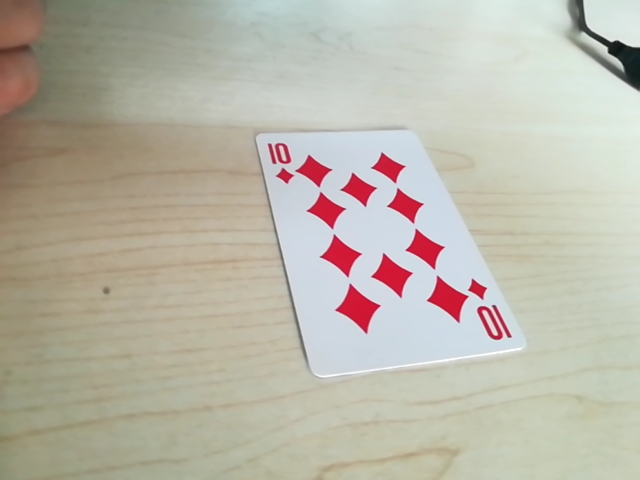fk 10: (470, 284, 512, 349), (263, 139, 301, 189)
